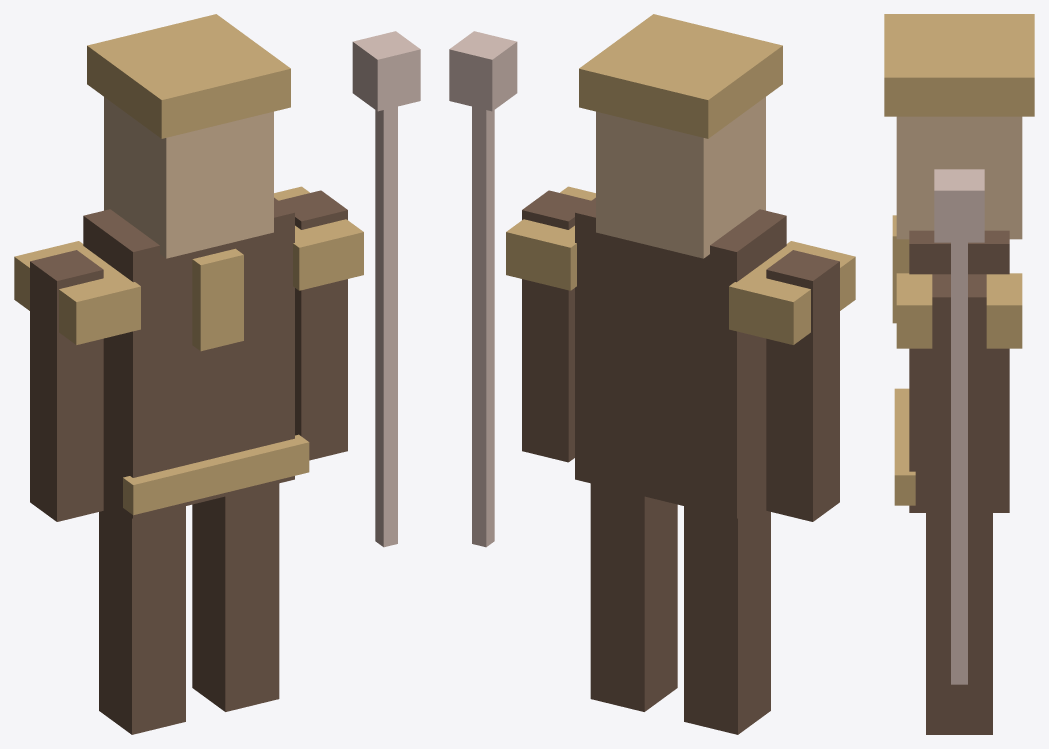
Rendered from 19_tamsin_gravesong_specialist_near_scavenger.glb.
The picture shows the model from 3 angles, left to right: view 1: azimuth 30°, elevation 25°; view 2: azimuth 150°, elevation 25°; view 3: azimuth 270°, elevation 25°; orthographic projection.
Visible parts, largest first — view 1: Tamsin Gravesong, Specialist near Scavenger; view 2: Tamsin Gravesong, Specialist near Scavenger; view 3: Tamsin Gravesong, Specialist near Scavenger.
Part boxes in pixels (left/top/right/bottom): Tamsin Gravesong, Specialist near Scavenger: left=14, top=14, right=420, bottom=734; Tamsin Gravesong, Specialist near Scavenger: left=449, top=14, right=855, bottom=734; Tamsin Gravesong, Specialist near Scavenger: left=884, top=14, right=1034, bottom=734.
Size of the model in its own units: 0.9853 by 1.67 by 0.3495.
